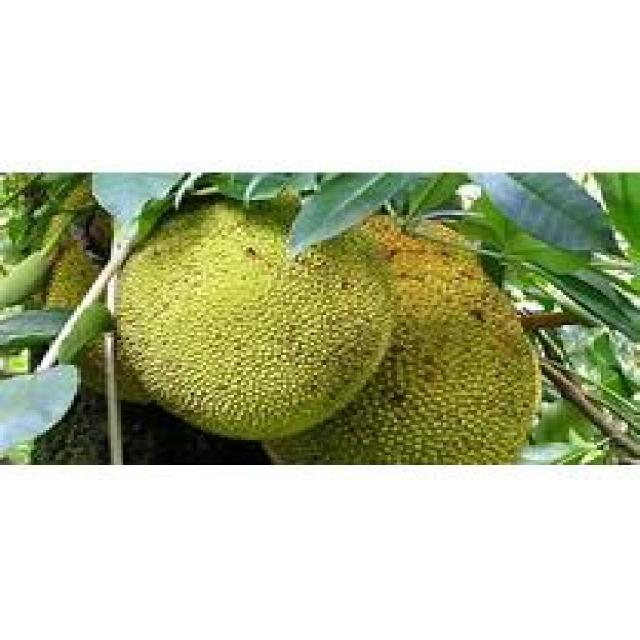Fruit: (95, 182, 434, 458)
